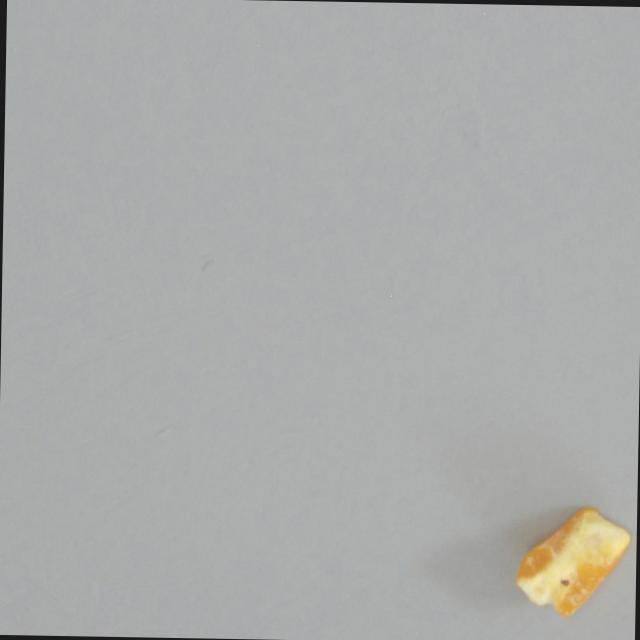punto_negro: (512, 504, 631, 617)
